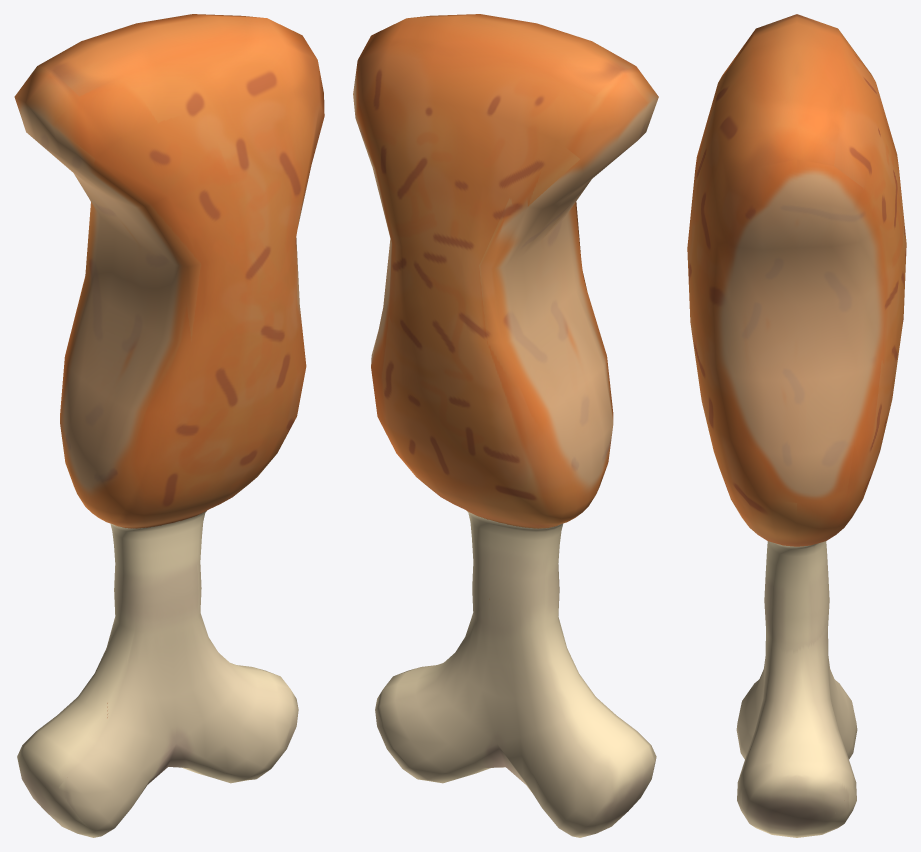
The model's file is meatbone.fbx.
3 renders of one model, left to right at view 1: azimuth 30°, elevation 25°; view 2: azimuth 150°, elevation 25°; view 3: azimuth 270°, elevation 25°, orthographic.
Visible parts, largest first — view 1: meatbone; view 2: meatbone; view 3: meatbone.
Part boxes in pixels (box(x1,y1,x2,y2)): meatbone: box(14, 14, 324, 837); meatbone: box(353, 14, 658, 837); meatbone: box(687, 14, 906, 837).
Bounding box in the file's own units: 27.7 × 73.35 × 18.82.
Materials: 1 (1 with a texture image).
